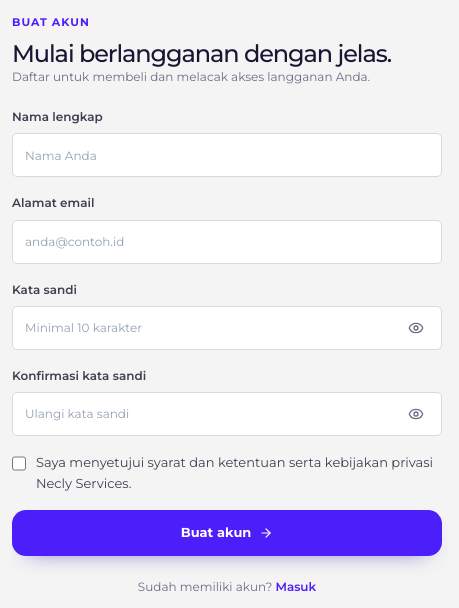
Test: halaman pendaftaran › mendaftarkan akun melalui API live dan menampilkan langkah verifikasi
Type "Nabila Rahma" into the field labelled "Nama lengkap" at (227, 156), box [12, 134, 442, 178]
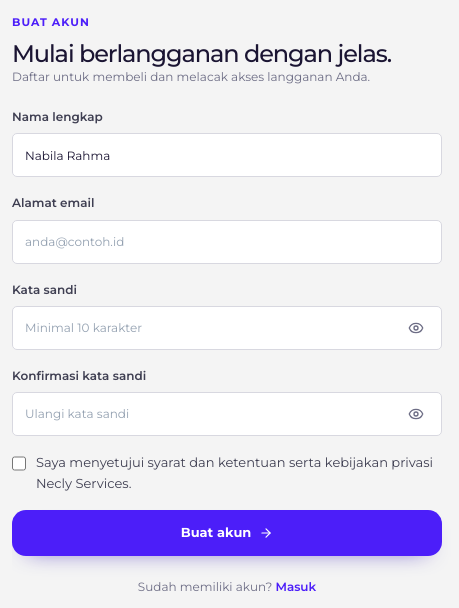
Type "nabila@example.id" into the field labelled "Alamat email" at (227, 242), box [12, 220, 442, 264]
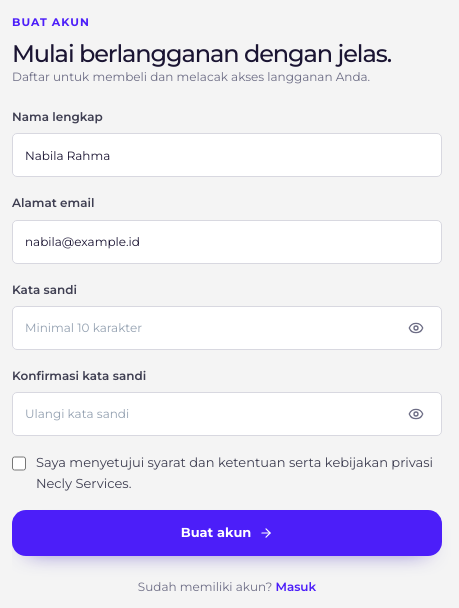
Type "rahasia-aman" into the password field labelled "Kata sandi" at (227, 328), box [12, 306, 442, 350]
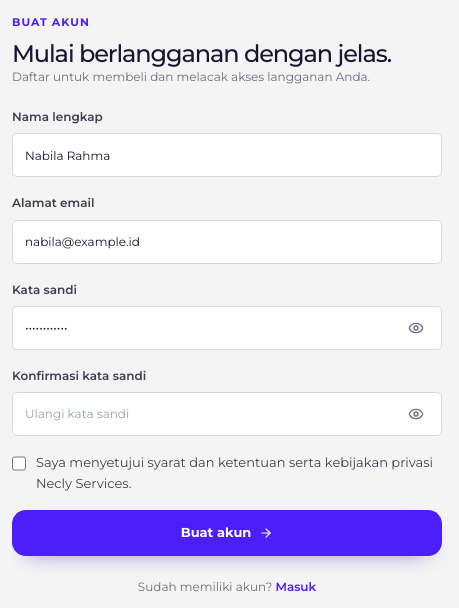
Type "rahasia-aman" into the password field labelled "Konfirmasi kata sandi" at (227, 414), box [12, 392, 442, 436]
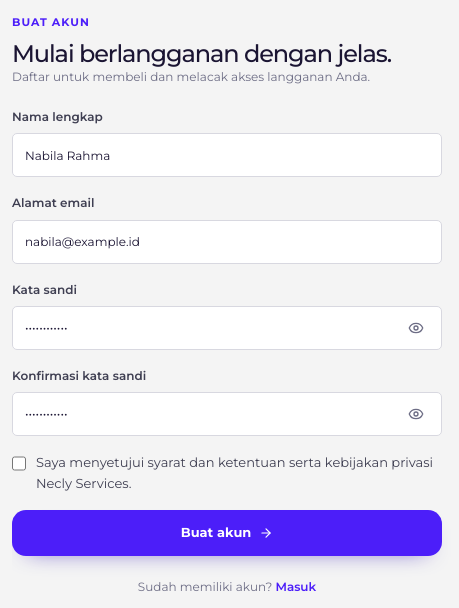
Click the checkbox at (19, 464), box [12, 455, 26, 472]
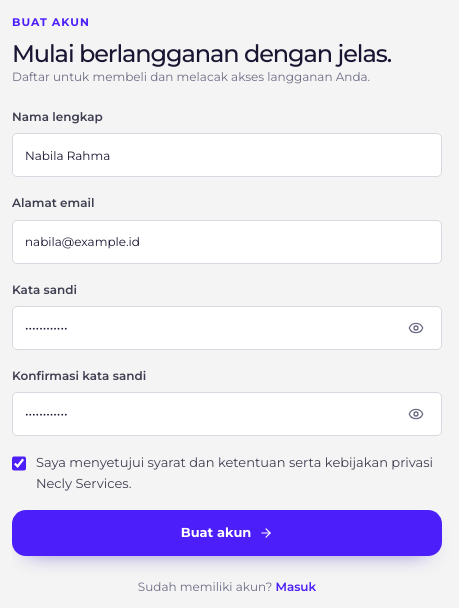
Click the button "Buat akun" at (227, 533), box [12, 510, 442, 556]
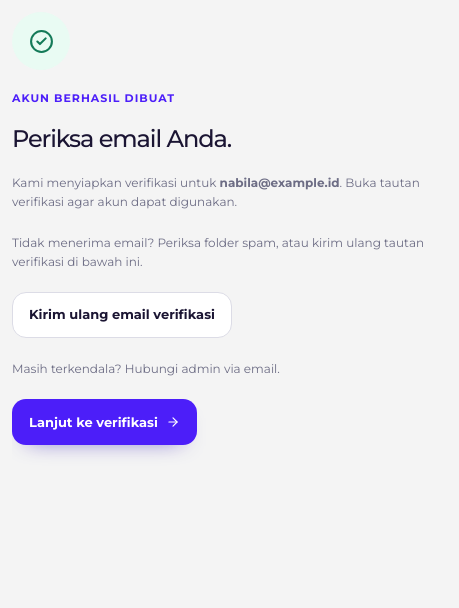
expect the heading "Periksa email Anda." is shown: met, box [12, 126, 231, 152]
